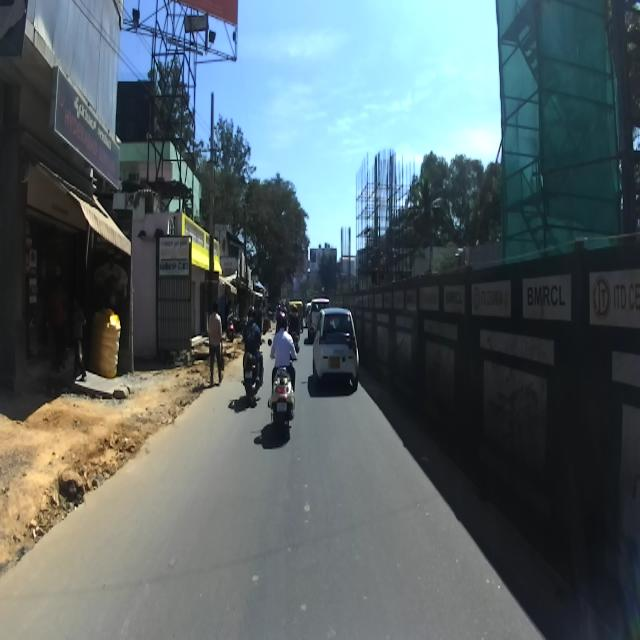car ahead at: (313, 306, 362, 398)
motorcycle ahead at: (266, 367, 298, 435)
person ahead at: (204, 299, 229, 395)
